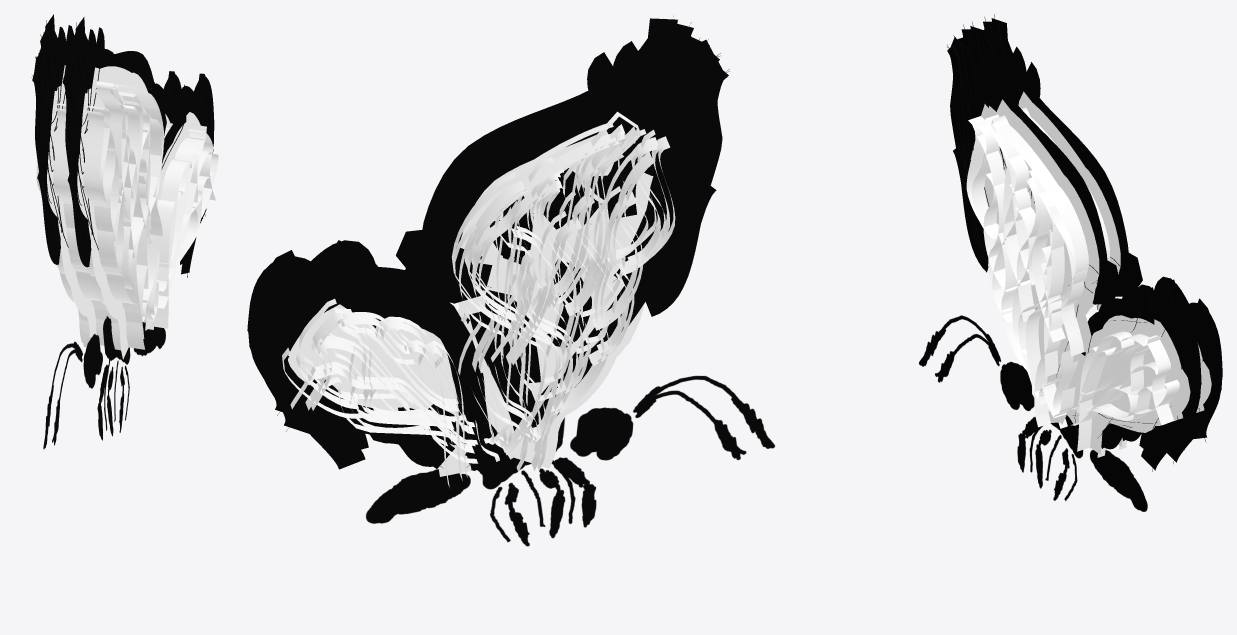
File: butterfly_compressed.glb
The picture shows the model from 3 angles, left to right: view 1: azimuth 30°, elevation 25°; view 2: azimuth 150°, elevation 25°; view 3: azimuth 270°, elevation 25°; orthographic projection. The views are drawn at different scales.
Parts seen in each view (by area): view 1: BézierCurve.005, BézierCurve.004, BézierCurve.007, BézierCurve.006, butterfly; view 2: BézierCurve.007, BézierCurve.006, butterfly, BézierCurve.004; view 3: BézierCurve.005, BézierCurve.004, BézierCurve.006, butterfly, BézierCurve.007.
Part boxes in pixels (bbox=[...]): BézierCurve.005: bbox=[69, 66, 218, 359]; BézierCurve.004: bbox=[62, 17, 214, 336]; BézierCurve.007: bbox=[36, 65, 172, 347]; BézierCurve.006: bbox=[31, 14, 181, 264]; butterfly: bbox=[43, 316, 165, 449]; BézierCurve.007: bbox=[282, 111, 675, 487]; BézierCurve.006: bbox=[256, 30, 729, 476]; butterfly: bbox=[366, 375, 774, 546]; BézierCurve.004: bbox=[247, 16, 720, 415]; BézierCurve.005: bbox=[966, 99, 1190, 457]; BézierCurve.004: bbox=[947, 22, 1201, 471]; BézierCurve.006: bbox=[983, 14, 1222, 463]; butterfly: bbox=[919, 315, 1147, 511]; BézierCurve.007: bbox=[1018, 91, 1211, 449].
Bounding box in the file's own units: 0.3359 × 0.4707 × 0.2842.
3 materials, 2 textured.
